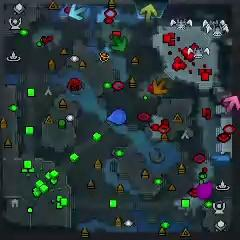p1: (107, 108, 127, 127)
p3: (195, 181, 212, 199)
x1: (225, 96, 240, 113)
x2: (140, 4, 158, 22)
x3: (68, 3, 85, 20)
x4: (112, 34, 128, 53)
x5: (152, 78, 170, 96)
